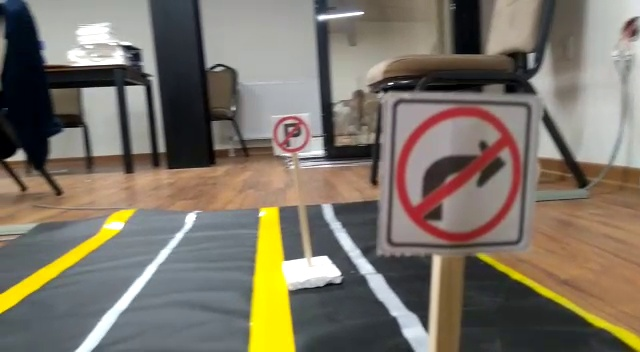park_yapilmaz: (273, 115, 308, 155)
saga_donulmez: (386, 94, 526, 245)
